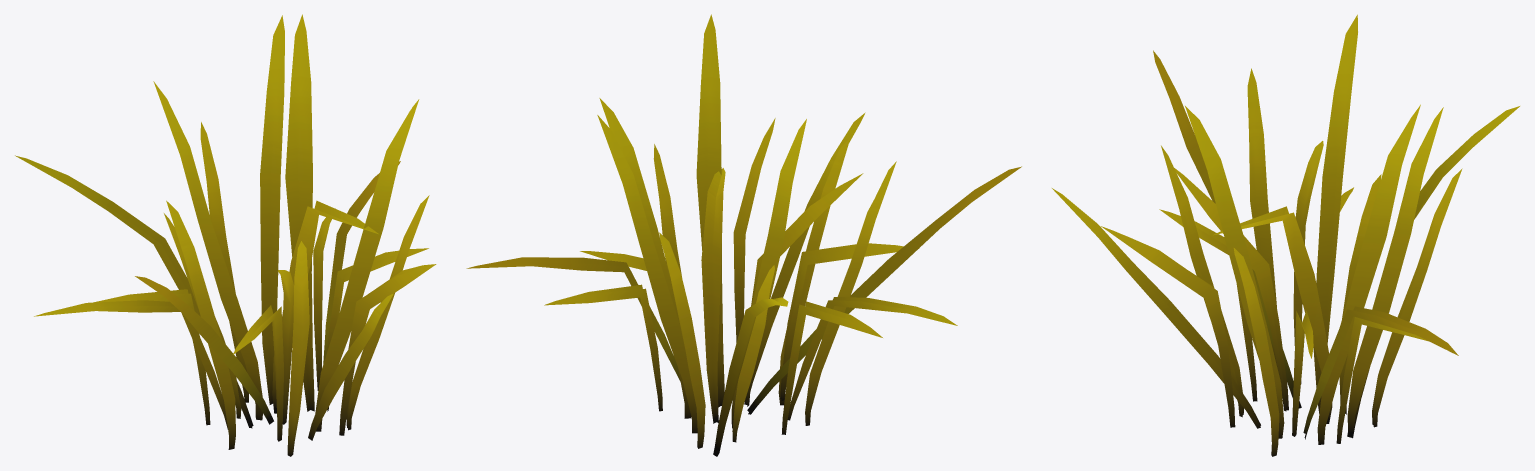
File: Grass_Wispy_Short.gltf
3 views of the same model, side by side, from view 1: azimuth 30°, elevation 25°; view 2: azimuth 150°, elevation 25°; view 3: azimuth 270°, elevation 25° (orthographic). The views are drawn at different scales.
Visible parts, largest first — view 1: Grass_Wispy_Short; view 2: Grass_Wispy_Short; view 3: Grass_Wispy_Short.
Boxes of the visible parts, x1,y1,x2,y2 form: Grass_Wispy_Short: [15, 14, 436, 456]; Grass_Wispy_Short: [466, 14, 1021, 456]; Grass_Wispy_Short: [1052, 14, 1519, 456].
Size of the model in its own units: 1.32 by 1.07 by 1.21.
Materials: 1 (1 with a texture image).
